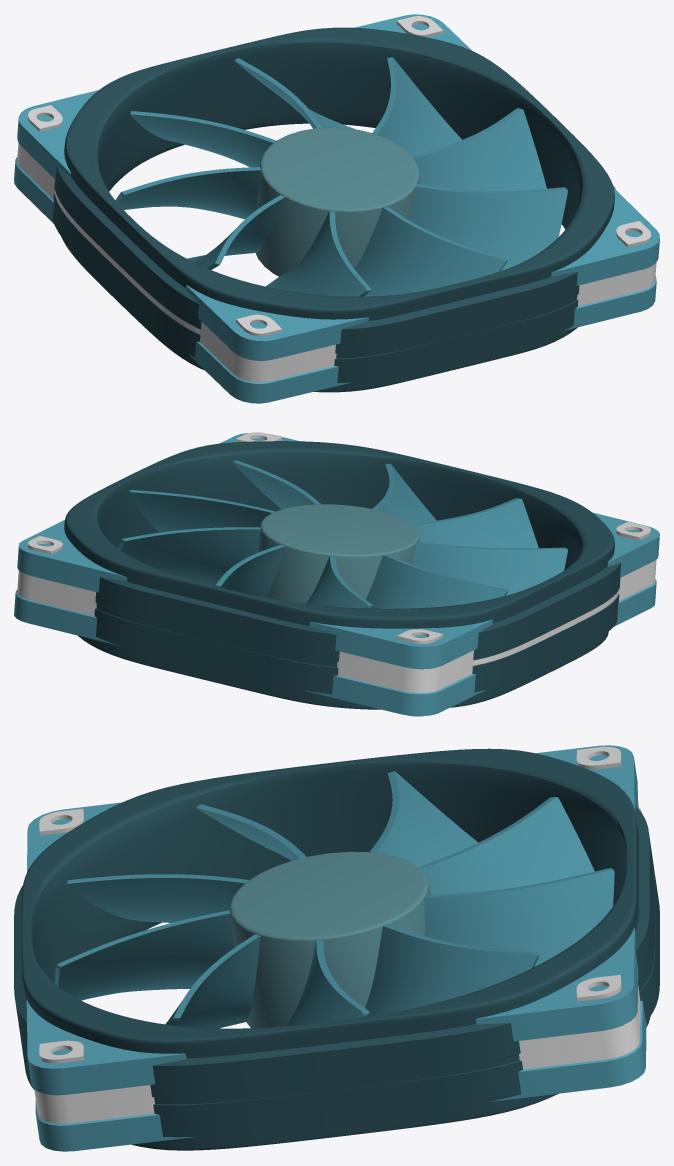
File: Ventilador2.fbx
The picture shows the model from 3 angles, top to bottom: view 1: azimuth 30°, elevation 25°; view 2: azimuth 150°, elevation 25°; view 3: azimuth 270°, elevation 25°; orthographic projection. The views are drawn at different scales.
Parts seen in each view (by area): view 1: Circle, Plane, Cube, Cylinder, Plane.009; view 2: Circle, Plane, Cube, Cylinder, Plane.009; view 3: Circle, Plane, Cube, Cylinder, Plane.009.
Part boxes in pixels (bbox=[...]): Circle: bbox=[52, 27, 615, 392]; Plane: bbox=[115, 57, 567, 296]; Cube: bbox=[14, 14, 659, 403]; Cylinder: bbox=[256, 127, 419, 276]; Plane.009: bbox=[28, 16, 650, 336]; Circle: bbox=[64, 441, 620, 709]; Plane: bbox=[118, 460, 567, 608]; Cube: bbox=[14, 433, 659, 716]; Cylinder: bbox=[258, 504, 419, 603]; Plane.009: bbox=[28, 432, 650, 716]; Circle: bbox=[14, 748, 659, 1150]; Plane: bbox=[55, 771, 614, 1028]; Cube: bbox=[26, 745, 646, 1151]; Cylinder: bbox=[229, 851, 430, 1028]; Plane.009: bbox=[39, 746, 621, 1063].
Bounding box in the file's own units: 160 × 50.15 × 160.
